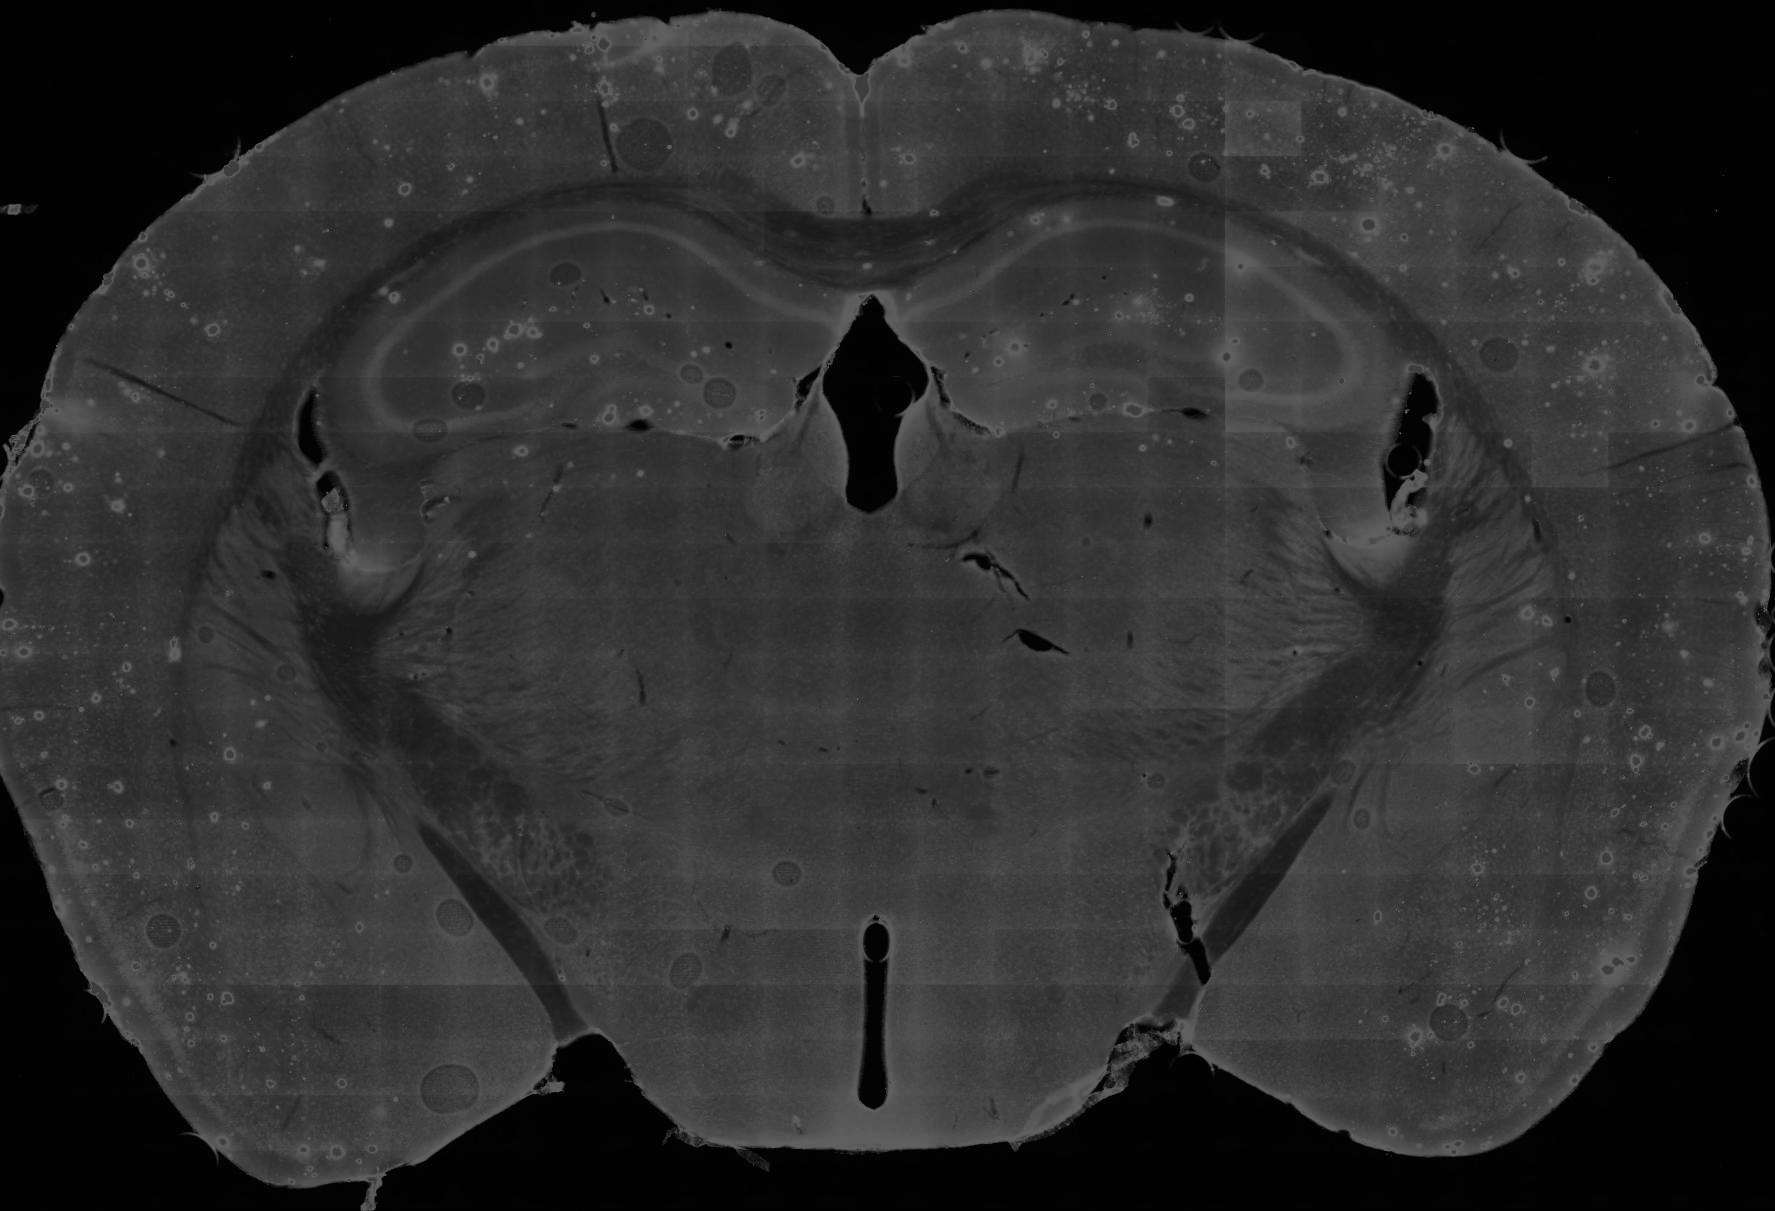Cerebral nuclei: (178, 440, 368, 878), (1381, 413, 1565, 862)
Hippocampal formation: (330, 201, 870, 463), (870, 197, 1401, 433)
Hypothalamus: (874, 700, 1284, 1152), (475, 743, 879, 1152)
Retrosplenial area: (740, 19, 865, 223), (861, 18, 979, 223)
Somatosensory area: (3, 26, 616, 593), (1183, 36, 1741, 490)
Thalamus: (869, 368, 1372, 882), (376, 368, 879, 882)
